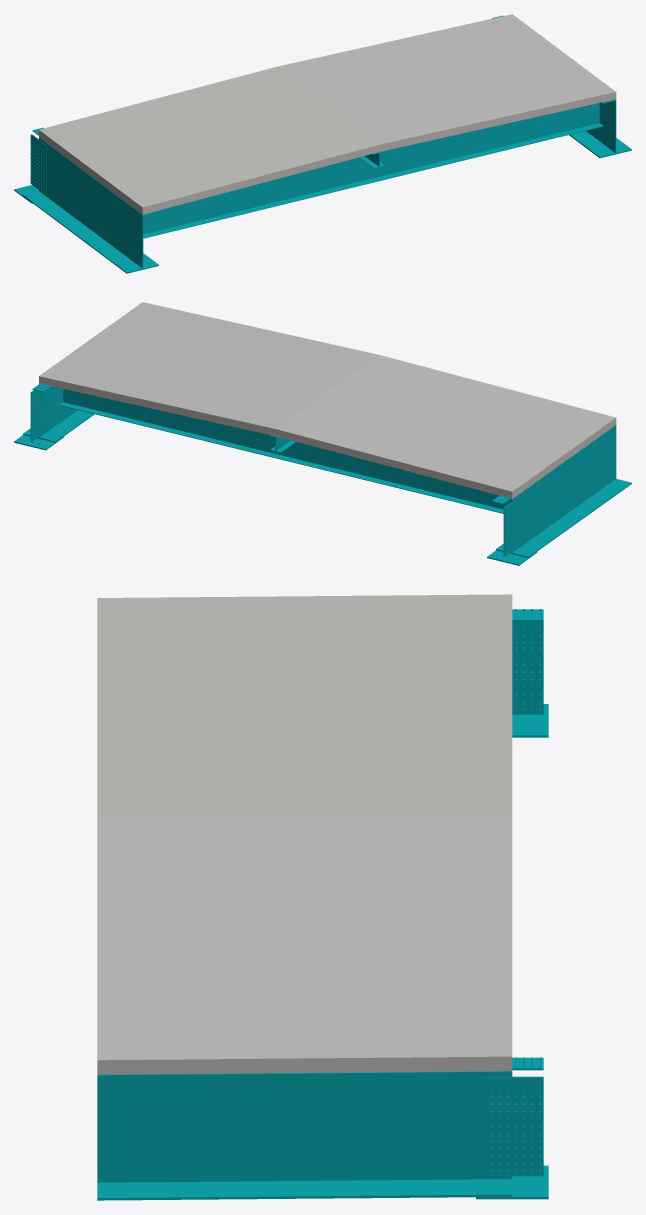
The model's file is DECK_NS01.glb.
3 renders of one model, top to bottom at view 1: azimuth 30°, elevation 25°; view 2: azimuth 150°, elevation 25°; view 3: azimuth 270°, elevation 25°, orthographic. The views are drawn at different scales.
Parts seen in each view (by area): view 1: NS01_Slab_11, NS01_FB_web_7, NS01_G_W_0, NS01_FB_bf_10, NS01_G_E_1, NS01_SpliceW_13; view 2: NS01_Slab_11, NS01_G_W_0, NS01_FB_web_3, NS01_FB_bf_6, NS01_G_E_1, NS01_SpliceW_13, NS01_SpliceW_21; view 3: NS01_Slab_11, NS01_G_E_1, NS01_SpliceW_22, NS01_SpliceW_14, NS01_SpliceB_23, NS01_SpliceB_15.
Part boxes in pixels (x1=…): NS01_Slab_11: x1=39, y1=14, x2=616, y2=214; NS01_FB_web_7: x1=143, y1=103, x2=599, y2=234; NS01_G_W_0: x1=23, y1=137, x2=158, y2=273; NS01_FB_bf_10: x1=143, y1=123, x2=603, y2=238; NS01_G_E_1: x1=569, y1=99, x2=631, y2=158; NS01_SpliceW_13: x1=30, y1=134, x2=46, y2=194; NS01_Slab_11: x1=39, y1=302, x2=616, y2=498; NS01_G_W_0: x1=496, y1=425, x2=631, y2=557; NS01_FB_web_3: x1=63, y1=389, x2=511, y2=509; NS01_FB_bf_6: x1=59, y1=402, x2=503, y2=513; NS01_G_E_1: x1=23, y1=383, x2=94, y2=442; NS01_SpliceW_13: x1=504, y1=496, x2=520, y2=556; NS01_SpliceW_21: x1=31, y1=390, x2=47, y2=441; NS01_Slab_11: x1=97, y1=594, x2=512, y2=1074; NS01_G_E_1: x1=97, y1=1071, x2=512, y2=1200; NS01_SpliceW_22: x1=481, y1=1077, x2=543, y2=1176; NS01_SpliceW_14: x1=512, y1=621, x2=543, y2=714; NS01_SpliceB_23: x1=476, y1=1165, x2=548, y2=1199; NS01_SpliceB_15: x1=512, y1=704, x2=548, y2=737.
Size of the model in its own units: 18.26 by 2.39 by 7.07.
